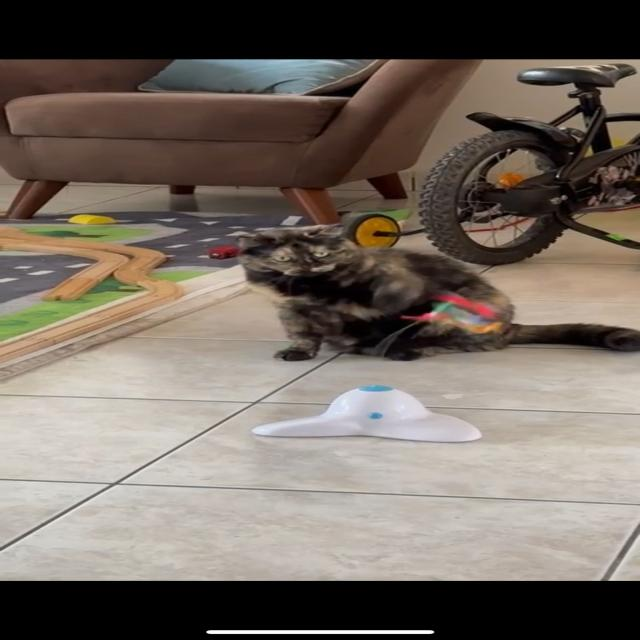authorized: (234, 222, 639, 362)
